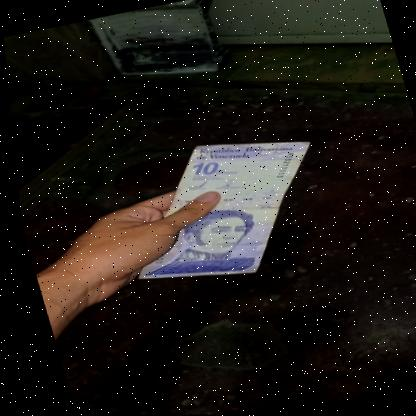vef_front: (98, 123, 340, 295)
